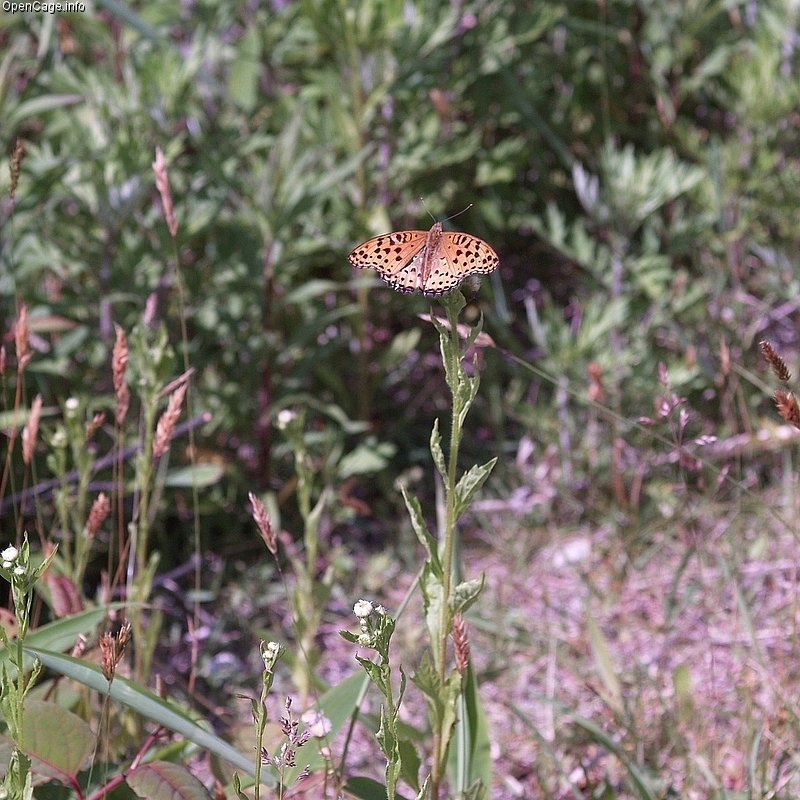Argyreus hyperbius: (343, 200, 506, 298)
butterfly: (341, 198, 504, 296)
